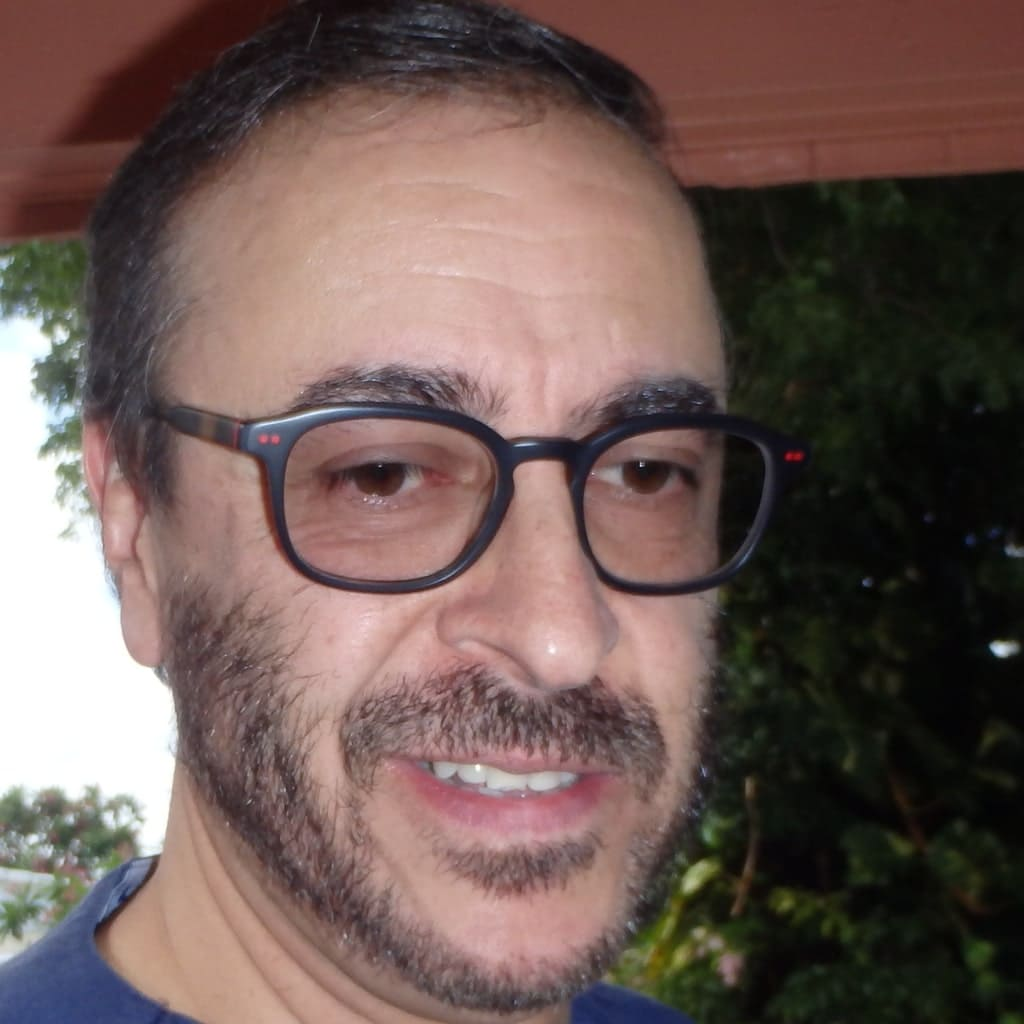without_mask: (206, 190, 707, 922)
